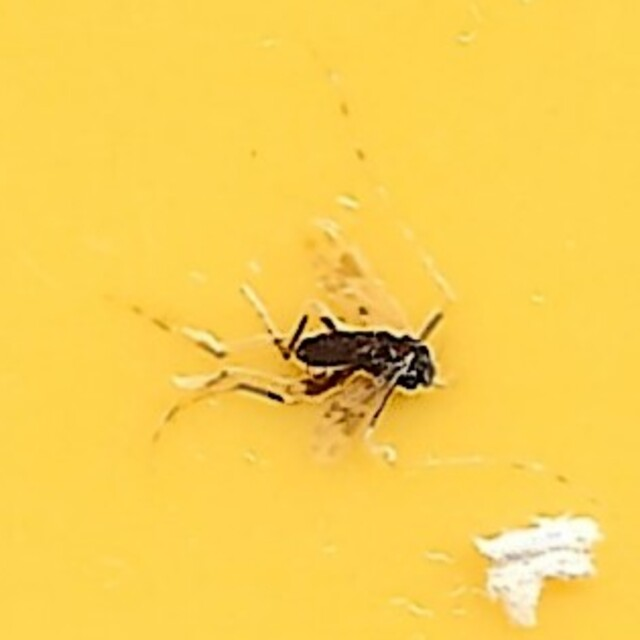Nematocera: (203, 206, 437, 434)
